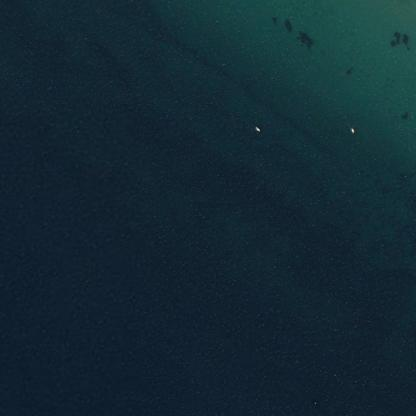ship: (250, 118, 265, 138), (344, 122, 360, 139)
